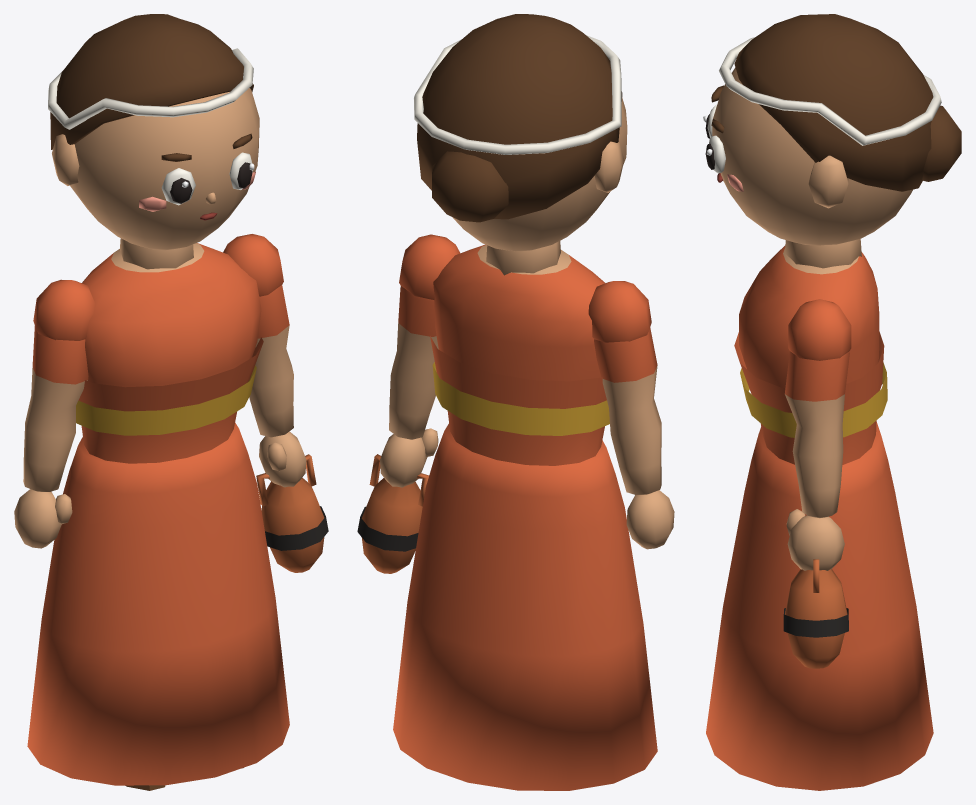
The model's file is toepferin.glb.
3 views of the same model, side by side, from view 1: azimuth 30°, elevation 25°; view 2: azimuth 150°, elevation 25°; view 3: azimuth 270°, elevation 25° (orthographic).
Visible parts, largest first — view 1: huefte, rumpf, kopf, haare, armL, armR, itemR, augeL, augeR; view 2: huefte, haare, rumpf, armL, armR, kopf, itemR; view 3: huefte, haare, rumpf, kopf, armR, itemR, augeR.
Boxes of the visible parts, x1,y1,x2,y2 form: huefte: [27, 422, 289, 785]; rumpf: [76, 243, 263, 463]; kopf: [52, 88, 259, 269]; haare: [48, 14, 253, 149]; armL: [14, 279, 95, 548]; armR: [223, 234, 306, 487]; itemR: [256, 454, 328, 572]; augeL: [161, 168, 195, 205]; augeR: [229, 152, 254, 189]; huefte: [393, 423, 657, 790]; haare: [413, 14, 622, 222]; rumpf: [430, 244, 609, 465]; armL: [588, 281, 674, 549]; armR: [380, 234, 459, 487]; kopf: [452, 97, 627, 275]; itemR: [357, 454, 429, 573]; huefte: [706, 422, 933, 790]; haare: [719, 14, 961, 191]; rumpf: [734, 245, 887, 464]; kopf: [712, 67, 912, 268]; armR: [784, 299, 851, 570]; itemR: [783, 559, 848, 668]; augeR: [705, 135, 725, 173].
Bounding box in the file's own units: 1.01 × 2.29 × 0.7376.
